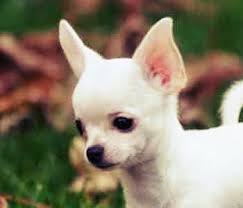chihuahua: (39, 9, 242, 208)
